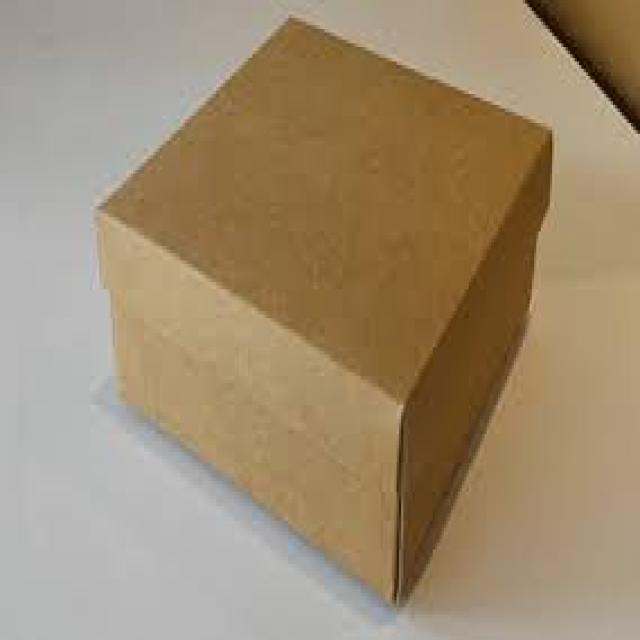Cardboard: (101, 13, 553, 599)
